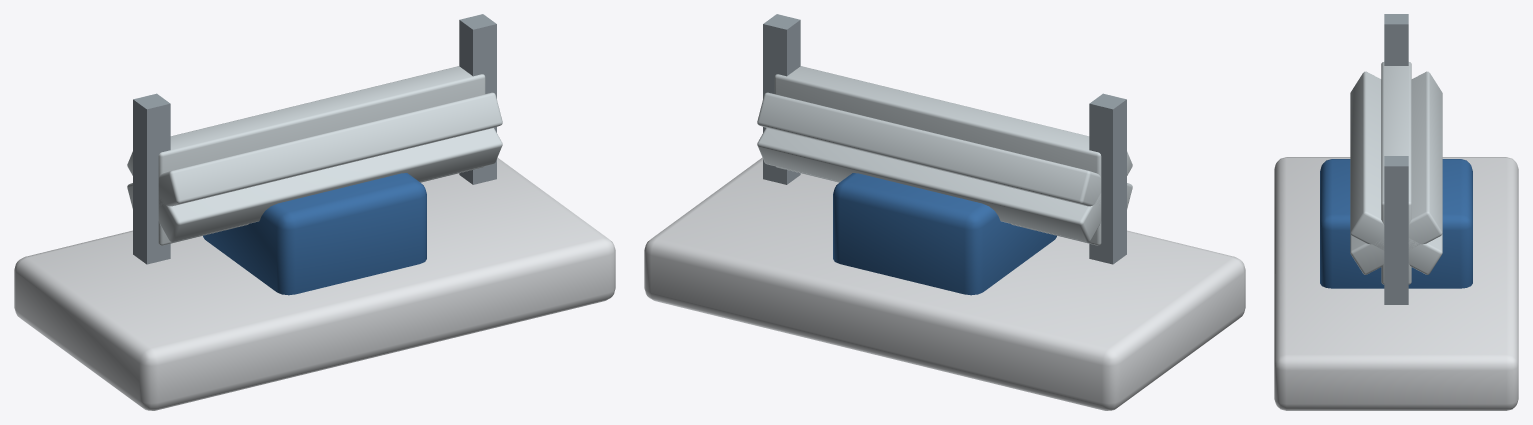
Rendered from aerator.glb.
3 views of the same model, side by side, from view 1: azimuth 30°, elevation 25°; view 2: azimuth 150°, elevation 25°; view 3: azimuth 270°, elevation 25° (orthographic). The views are drawn at different scales.
Parts seen in each view (by area): view 1: Body, Wheel; view 2: Body, Wheel; view 3: Body, Wheel.
Boxes of the visible parts, <box> form: Body: <box>14,14,615,410</box>; Wheel: <box>127,66,502,245</box>; Body: <box>644,14,1245,410</box>; Wheel: <box>757,66,1132,245</box>; Body: <box>1274,14,1518,410</box>; Wheel: <box>1350,62,1442,284</box>.
Bounding box in the file's own units: 1.6 × 0.8 × 0.8.
